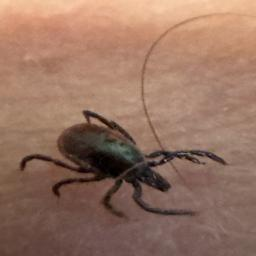Ixodes scapularis: (17, 110, 226, 219)
